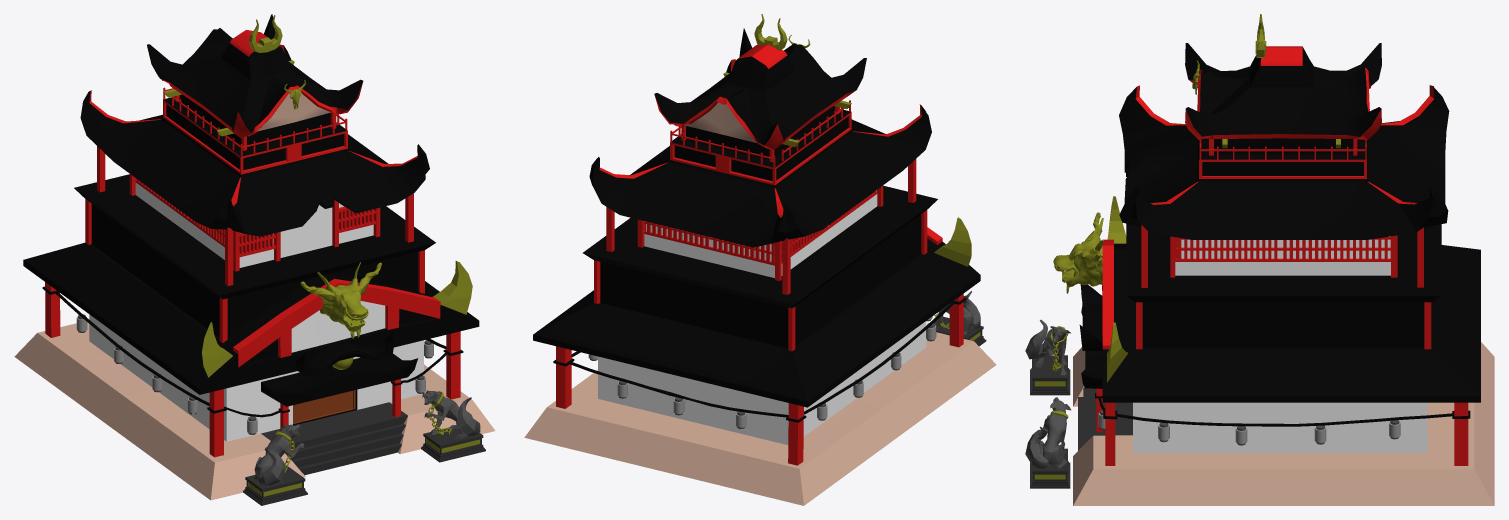
File: tempel.FBX
3 views of the same model, side by side, from view 1: azimuth 30°, elevation 25°; view 2: azimuth 150°, elevation 25°; view 3: azimuth 270°, elevation 25° (orthographic). The views are drawn at different scales.
Parts seen in each view (by area): view 1: tempel; view 2: tempel; view 3: tempel.
Boxes of the visible parts, x1,y1,x2,y2 form: tempel: (14, 14, 495, 505); tempel: (524, 14, 996, 505); tempel: (1025, 14, 1494, 505).
Size of the model in its own units: 62.5 by 80.53 by 83.07.
